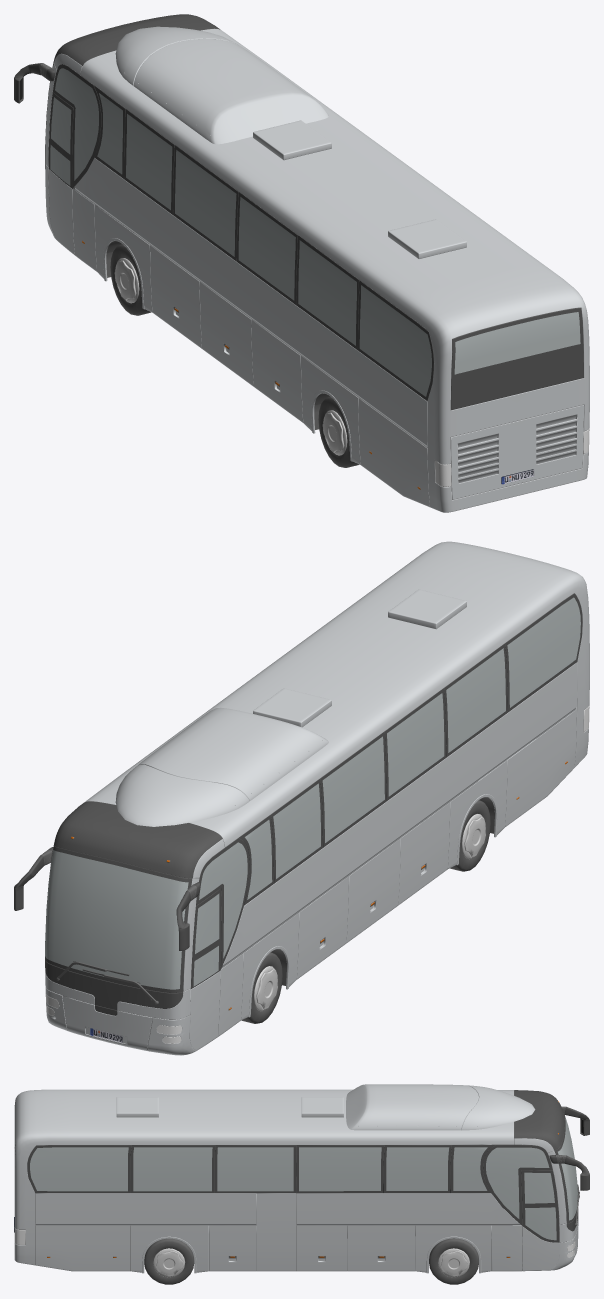
3 views of the same model, one above another, from view 1: azimuth 30°, elevation 25°; view 2: azimuth 150°, elevation 25°; view 3: azimuth 270°, elevation 25° (orthographic). The views are drawn at different scales.
Visible parts, largest first — view 1: 大巴车02; view 2: 大巴车02; view 3: 大巴车02.
Part boxes in pixels (box(x1,y1,x2,y2)): 大巴车02: box(14, 14, 589, 512); 大巴车02: box(14, 541, 589, 1055); 大巴车02: box(14, 1084, 589, 1284).
Size of the model in its own units: 2.9 by 3.92 by 12.25.
Materials: 14 (4 with a texture image).
